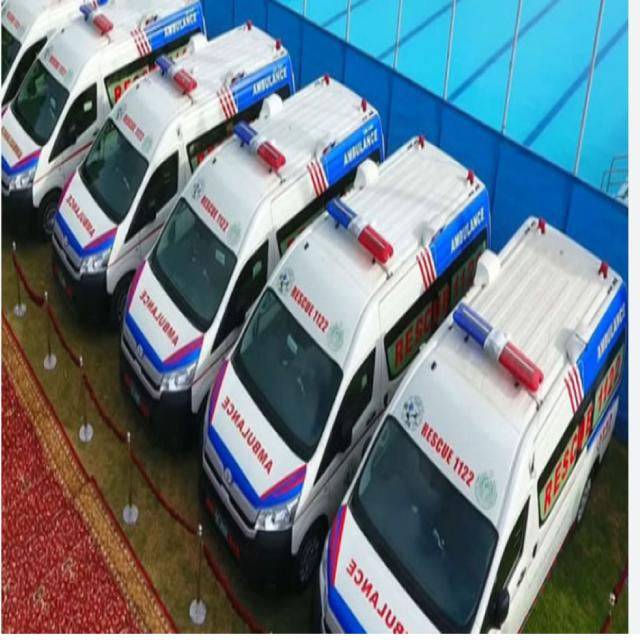ambulance: (223, 127, 620, 613), (0, 7, 286, 256)
